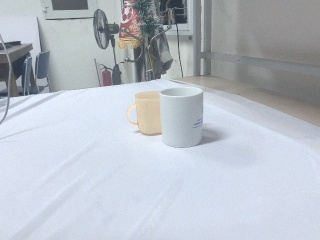cup: (160, 85, 204, 149), (125, 91, 162, 137)
